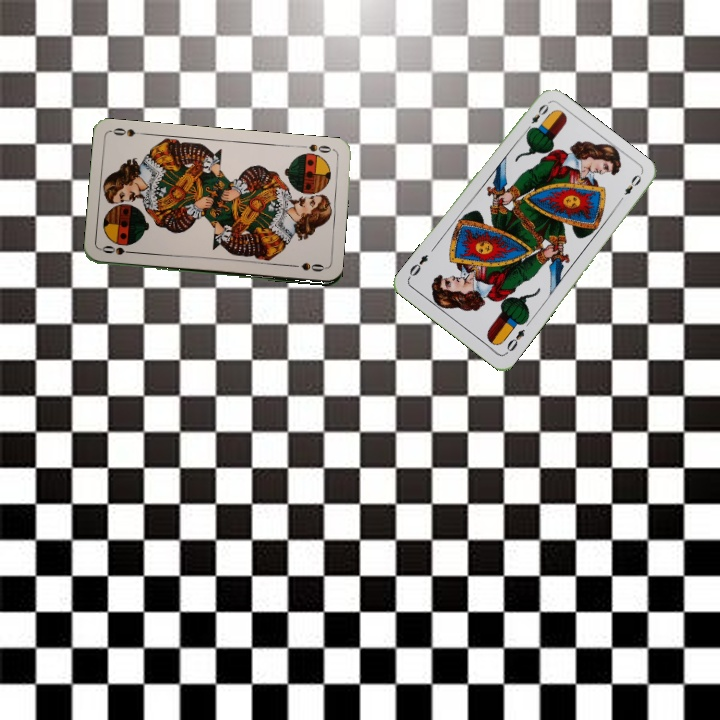EO: (521, 100, 551, 135), (502, 325, 527, 357)
SO: (296, 140, 336, 159), (98, 242, 139, 258)
